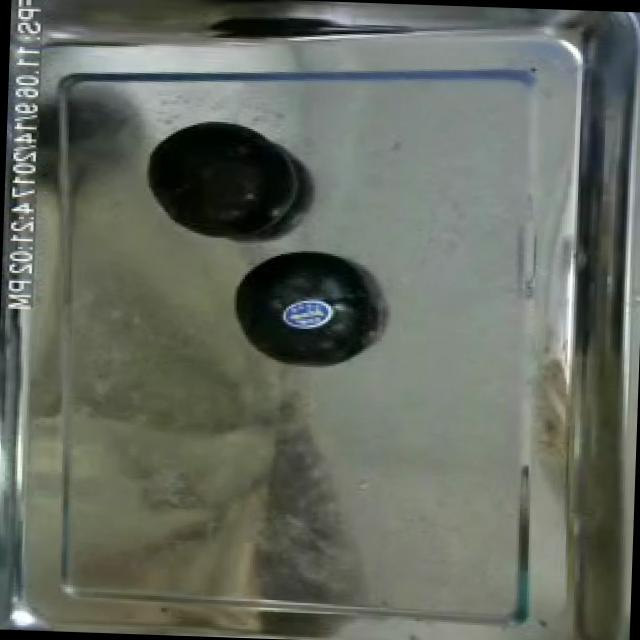Fruit: (138, 111, 310, 248), (270, 284, 344, 338)
